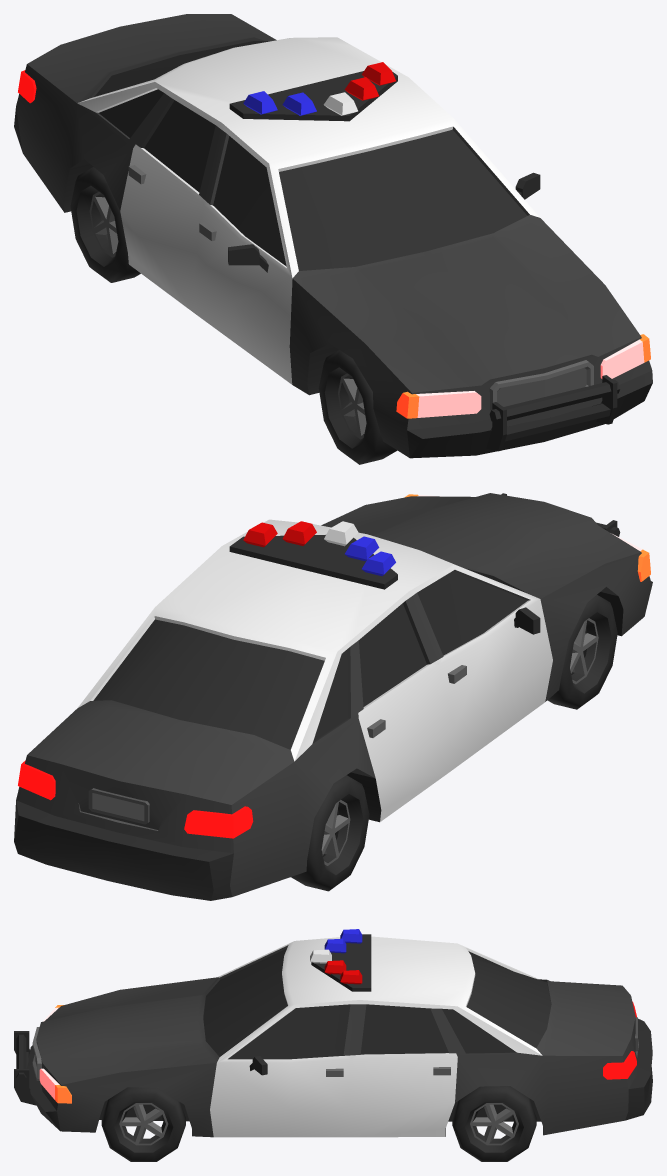
The model's file is car_cube082.glb.
3 renders of one model, top to bottom at view 1: azimuth 30°, elevation 25°; view 2: azimuth 150°, elevation 25°; view 3: azimuth 270°, elevation 25°, orthographic. The views are drawn at different scales.
Parts seen in each view (by area): view 1: Cube.082, Cylinder.085, Cylinder.087, Cube.164, Cube.105, Cube.165, Cylinder.066, Cube.103, Cube.083, Cube.104, Cube.106, Cube.166; view 2: Cube.082, Cylinder.087, Cylinder.085, Cube.105, Cube.169, Cube.142, Cube.106, Cube.166; view 3: Cube.082, Cylinder.087, Cylinder.085, Cube.105, Cube.104, Cube.164, Cube.169, Cube.166, Cube.106, Cylinder.066.
Part boxes in pixels (x1=…): Cube.082: x1=14, y1=14, x2=652, y2=458; Cylinder.085: x1=318, y1=350, x2=397, y2=464; Cylinder.087: x1=70, y1=167, x2=140, y2=282; Cube.164: x1=396, y1=334, x2=650, y2=418; Cube.105: x1=229, y1=71, x2=397, y2=121; Cube.165: x1=489, y1=360, x2=593, y2=410; Cylinder.066: x1=489, y1=380, x2=620, y2=423; Cube.103: x1=505, y1=403, x2=610, y2=441; Cube.083: x1=228, y1=172, x2=540, y2=272; Cube.104: x1=486, y1=375, x2=617, y2=451; Cube.106: x1=282, y1=77, x2=378, y2=115; Cube.166: x1=243, y1=62, x2=395, y2=114; Cube.082: x1=14, y1=493, x2=652, y2=900; Cylinder.087: x1=291, y1=775, x2=369, y2=891; Cylinder.085: x1=547, y1=595, x2=617, y2=709; Cube.105: x1=229, y1=535, x2=397, y2=589; Cube.169: x1=18, y1=760, x2=253, y2=838; Cube.142: x1=88, y1=788, x2=149, y2=824; Cube.106: x1=282, y1=521, x2=379, y2=561; Cube.166: x1=243, y1=522, x2=395, y2=576; Cube.082: x1=26, y1=936, x2=652, y2=1137; Cylinder.087: x1=452, y1=1086, x2=536, y2=1161; Cylinder.085: x1=101, y1=1087, x2=185, y2=1161; Cube.105: x1=311, y1=934, x2=371, y2=991; Cube.104: x1=14, y1=1031, x2=36, y2=1105; Cube.164: x1=39, y1=1005, x2=71, y2=1103; Cube.169: x1=603, y1=1001, x2=636, y2=1079; Cube.166: x1=340, y1=929, x2=362, y2=984; Cube.106: x1=324, y1=938, x2=346, y2=974; Cylinder.066: x1=16, y1=1034, x2=26, y2=1082.
Size of the model in its own units: 2.22 by 1.63 by 5.57.
Materials: 3 (3 with a texture image).
